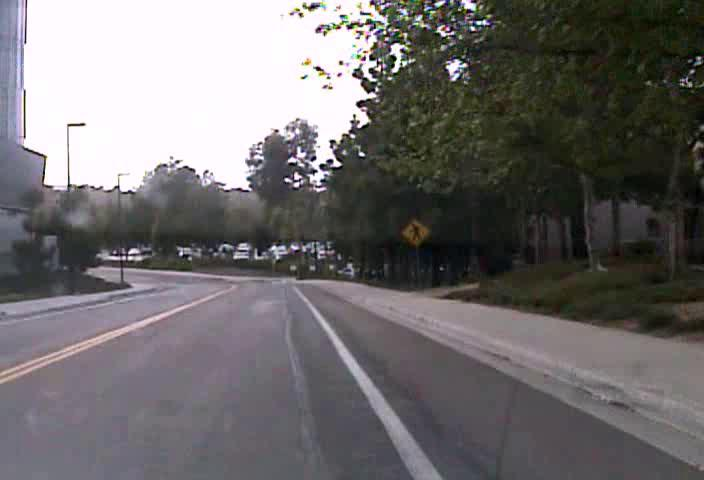pedestrianCrossing: (400, 217, 431, 247)
